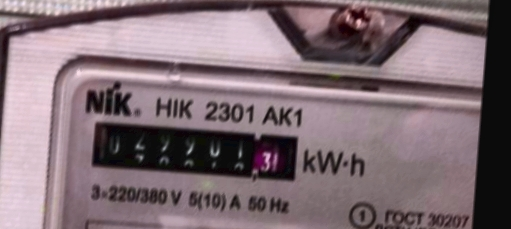0: (205, 132, 222, 158), (104, 131, 120, 154)
1: (232, 134, 245, 159)
2: (130, 128, 147, 151)
3: (256, 148, 272, 172)
9: (181, 132, 194, 156), (156, 130, 170, 151)
screen: (81, 112, 306, 191)
